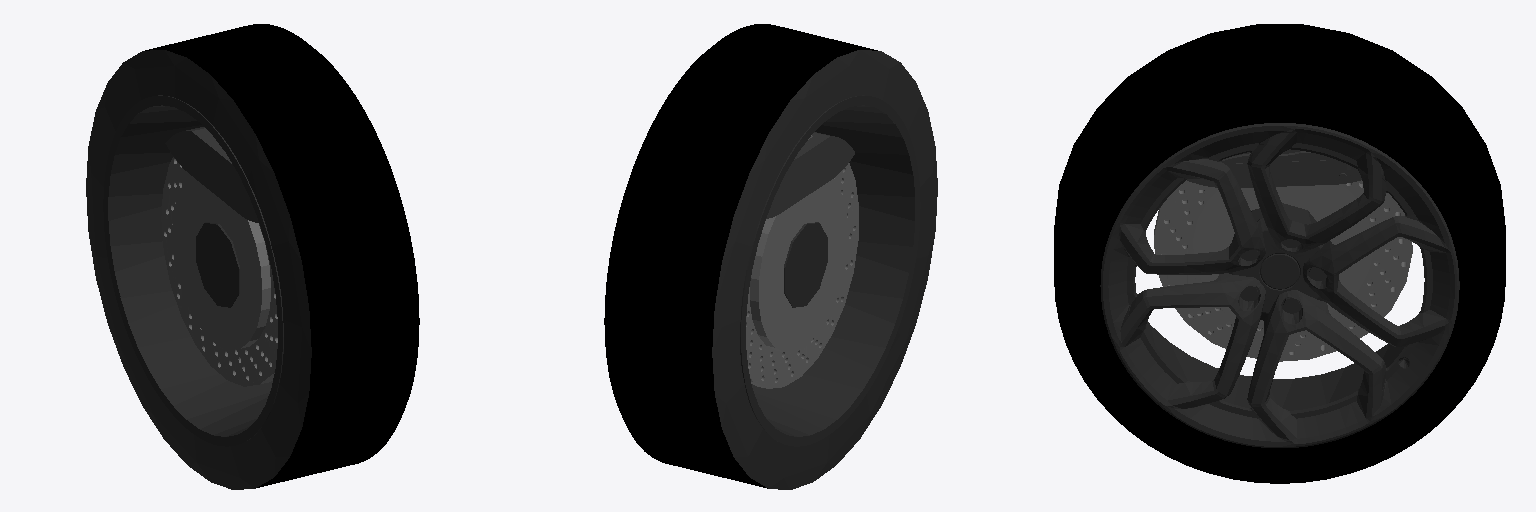
File: wheel.obj
3 renders of one model, left to right at view 1: azimuth 30°, elevation 25°; view 2: azimuth 150°, elevation 25°; view 3: azimuth 270°, elevation 25°, orthographic.
Parts seen in each view (by area): view 1: Mesh212_032wheel3_032Group1_032Lamborghini_Aventador1_032Mo.001; view 2: Mesh212_032wheel3_032Group1_032Lamborghini_Aventador1_032Mo.001; view 3: Mesh212_032wheel3_032Group1_032Lamborghini_Aventador1_032Mo.001.
Boxes of the visible parts, box(x1,y1,x2,y2) form: Mesh212_032wheel3_032Group1_032Lamborghini_Aventador1_032Mo.001: box(86, 24, 419, 489); Mesh212_032wheel3_032Group1_032Lamborghini_Aventador1_032Mo.001: box(604, 24, 937, 489); Mesh212_032wheel3_032Group1_032Lamborghini_Aventador1_032Mo.001: box(1054, 24, 1505, 483).
Bounding box in the file's own units: 0.2522 × 0.7863 × 0.7858.